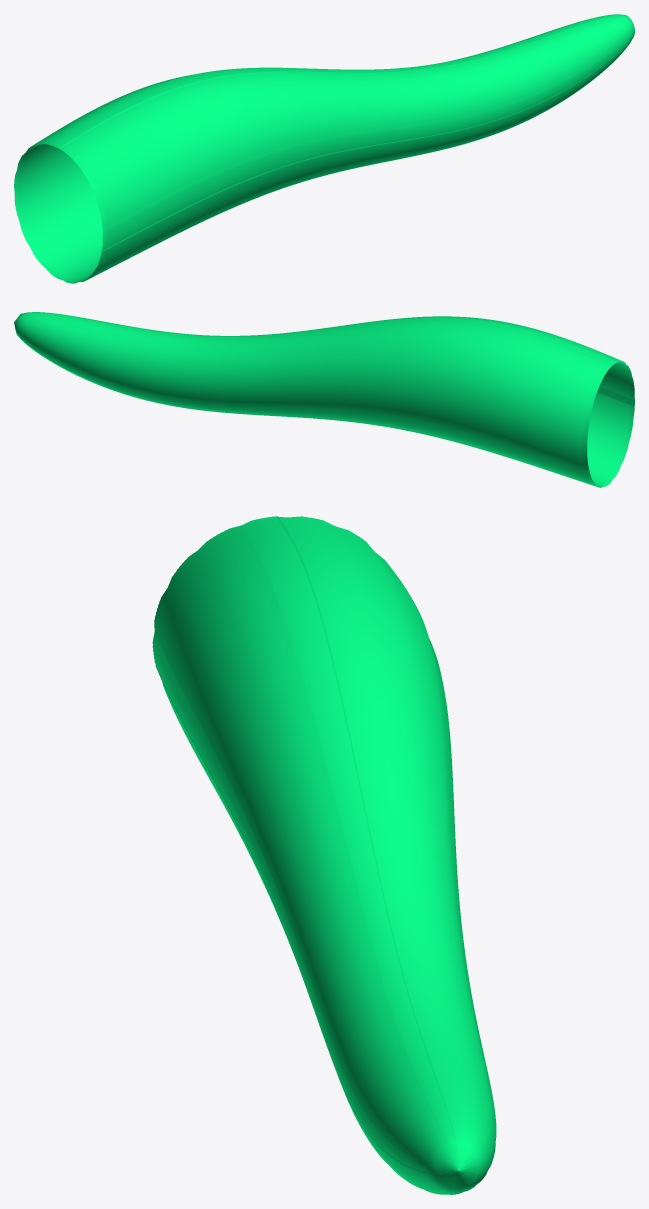
The model's file is vascular-network-solid (1).gltf.
3 renders of one model, top to bottom at view 1: azimuth 30°, elevation 25°; view 2: azimuth 150°, elevation 25°; view 3: azimuth 270°, elevation 25°, orthographic. The views are drawn at different scales.
Parts seen in each view (by area): view 1: vascular_network_solid; view 2: vascular_network_solid; view 3: vascular_network_solid.
Boxes of the visible parts, x1,y1,x2,y2 form: vascular_network_solid: [14, 14, 634, 283]; vascular_network_solid: [14, 312, 634, 487]; vascular_network_solid: [152, 516, 496, 1194].
Bounding box in the file's own units: 3.01 × 0.6968 × 0.8015.
